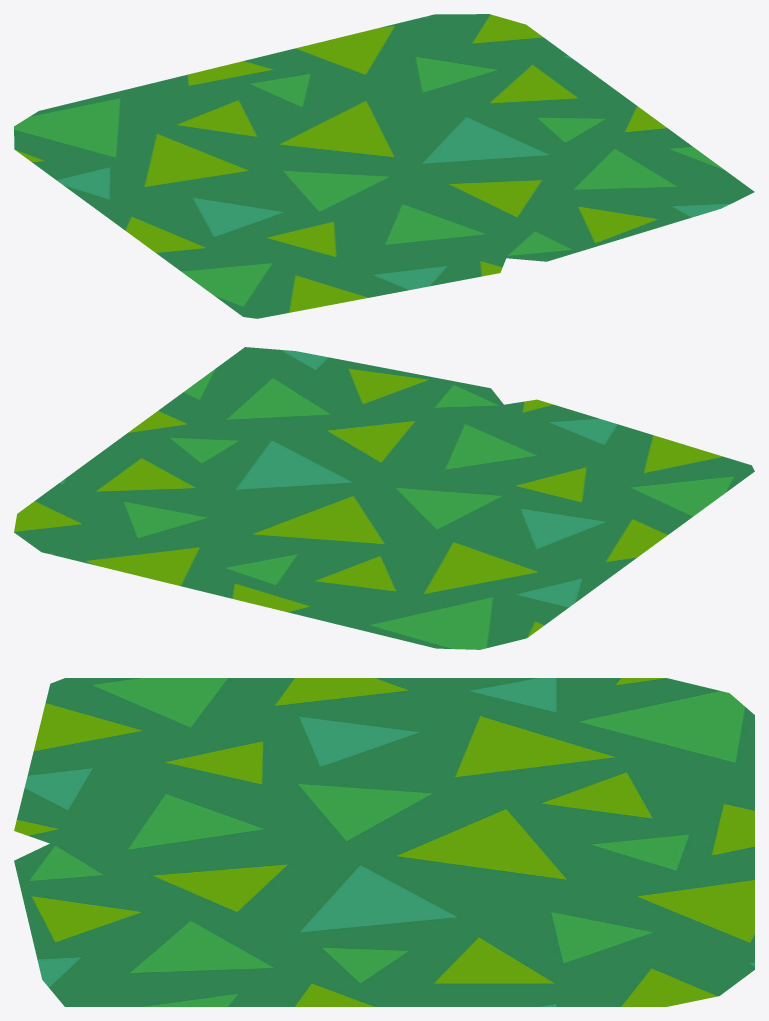
File: Grass Edge.fbx
3 renders of one model, top to bottom at view 1: azimuth 30°, elevation 25°; view 2: azimuth 150°, elevation 25°; view 3: azimuth 270°, elevation 25°, orthographic. The views are drawn at different scales.
Visible parts, largest first — view 1: Grass.Edge; view 2: Grass.Edge; view 3: Grass.Edge.
Boxes of the visible parts, <box> form: Grass.Edge: <box>14,14,754,318</box>; Grass.Edge: <box>14,347,754,649</box>; Grass.Edge: <box>14,678,754,1006</box>.
Bounding box in the file's own units: 200 × 0 × 190.
